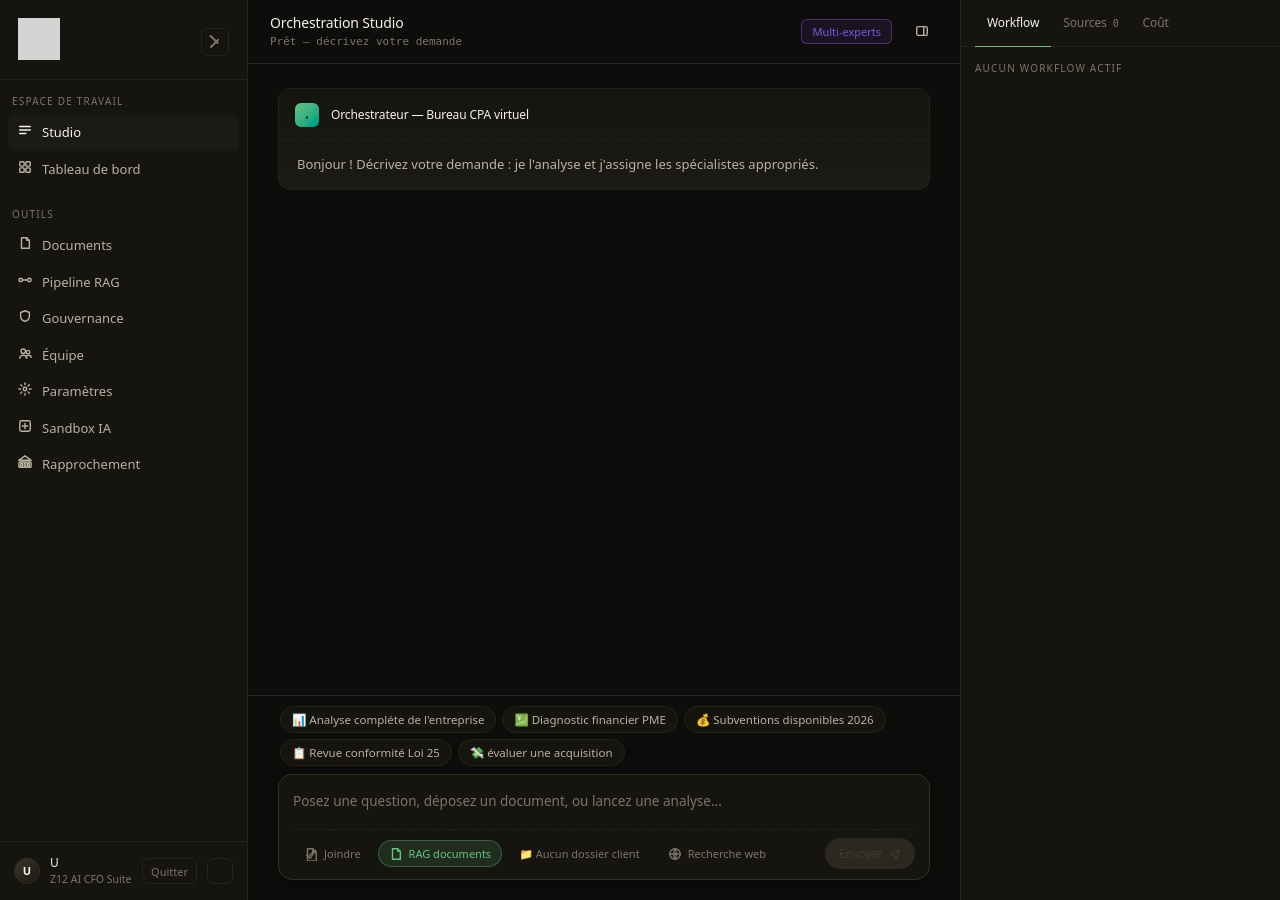
Test: business knowledge (RAG métier) visibility › is hidden from an ordinary user, who only gets client folders
Click the element showing "Documents" at (65, 245), box left=18, top=236, right=112, bottom=254
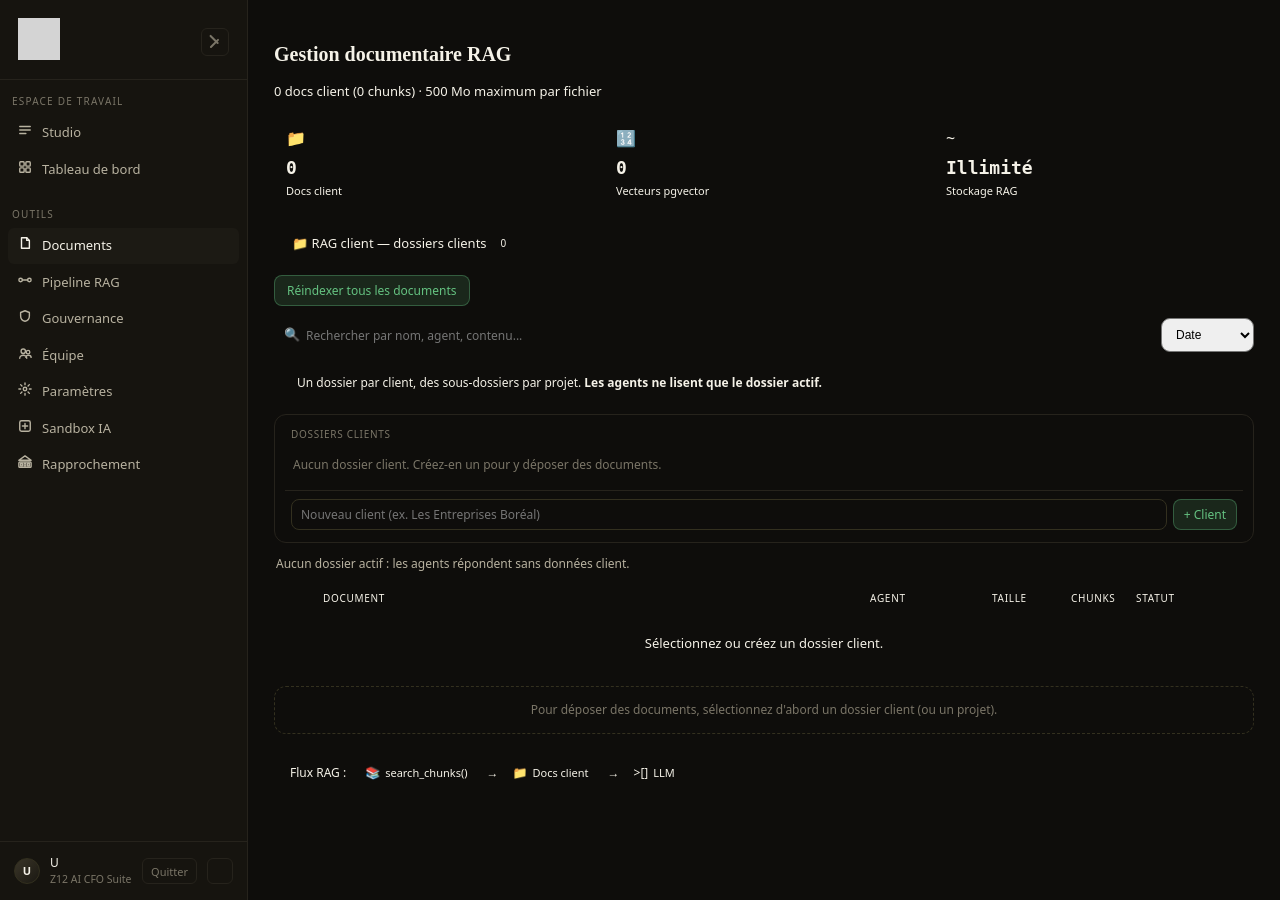
Expected: the button "📁 RAG client — dossiers clients 0" is shown, left=274, top=225, right=531, bottom=261
Expected: the element with test id "client-folders" is shown, left=274, top=414, right=1254, bottom=543
